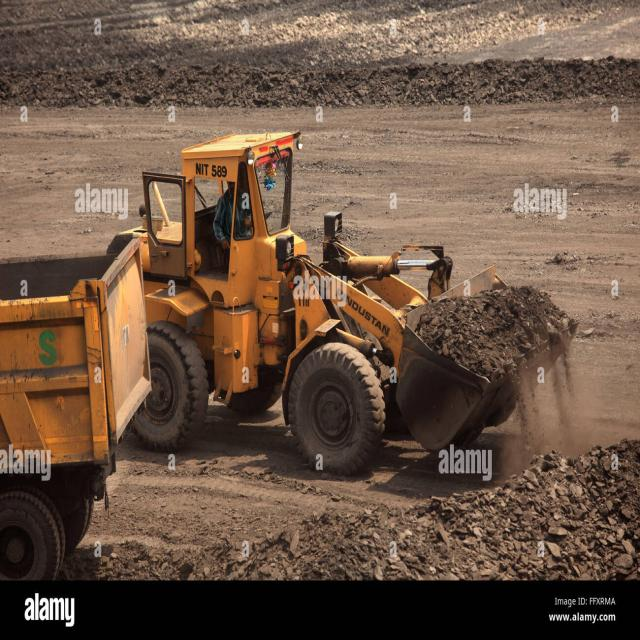buldozerpayloadergrader: (148, 110, 584, 469)
dump_truck: (0, 232, 146, 585)
